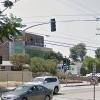Traffic light: (44, 21, 73, 46)
